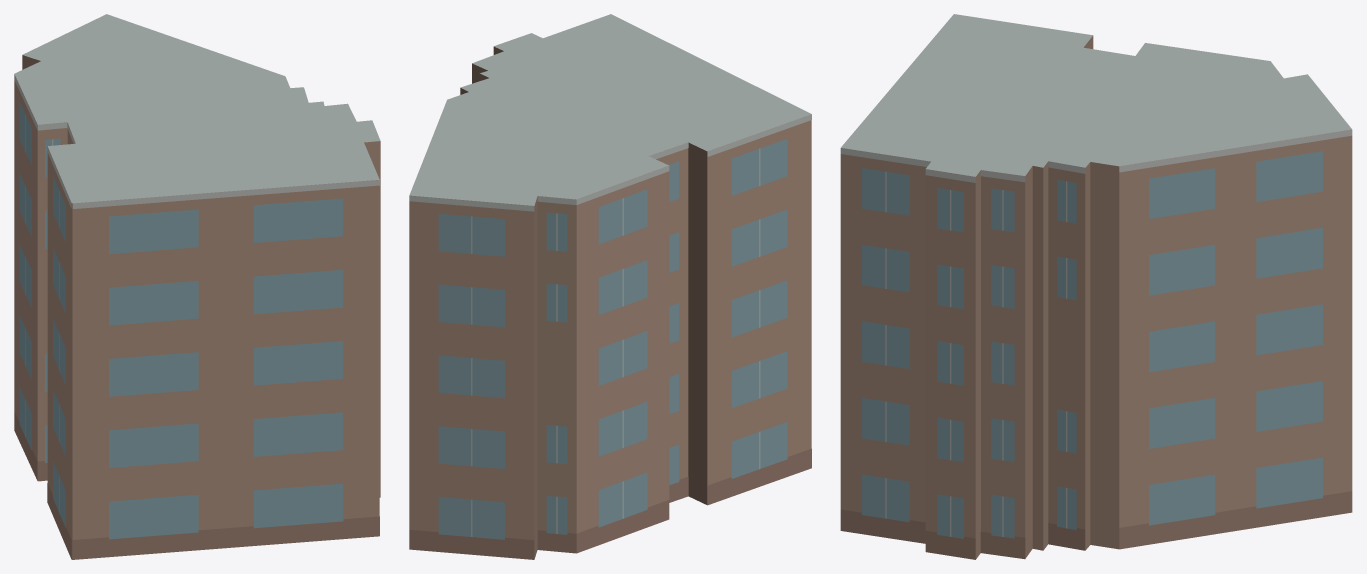
Rendered from survey-upis-32711181.glb.
The picture shows the model from 3 angles, left to right: view 1: azimuth 30°, elevation 25°; view 2: azimuth 150°, elevation 25°; view 3: azimuth 270°, elevation 25°; orthographic projection. The views are drawn at different scales.
Visible parts, largest first — view 1: survey-upis-32711181.tmp; view 2: survey-upis-32711181.tmp; view 3: survey-upis-32711181.tmp.
Part boxes in pixels (x1,y1,x2,y2): survey-upis-32711181.tmp: [14, 14, 380, 559]; survey-upis-32711181.tmp: [409, 14, 811, 559]; survey-upis-32711181.tmp: [840, 14, 1352, 559].
Size of the model in its own units: 13.87 by 15.2 by 18.42.
